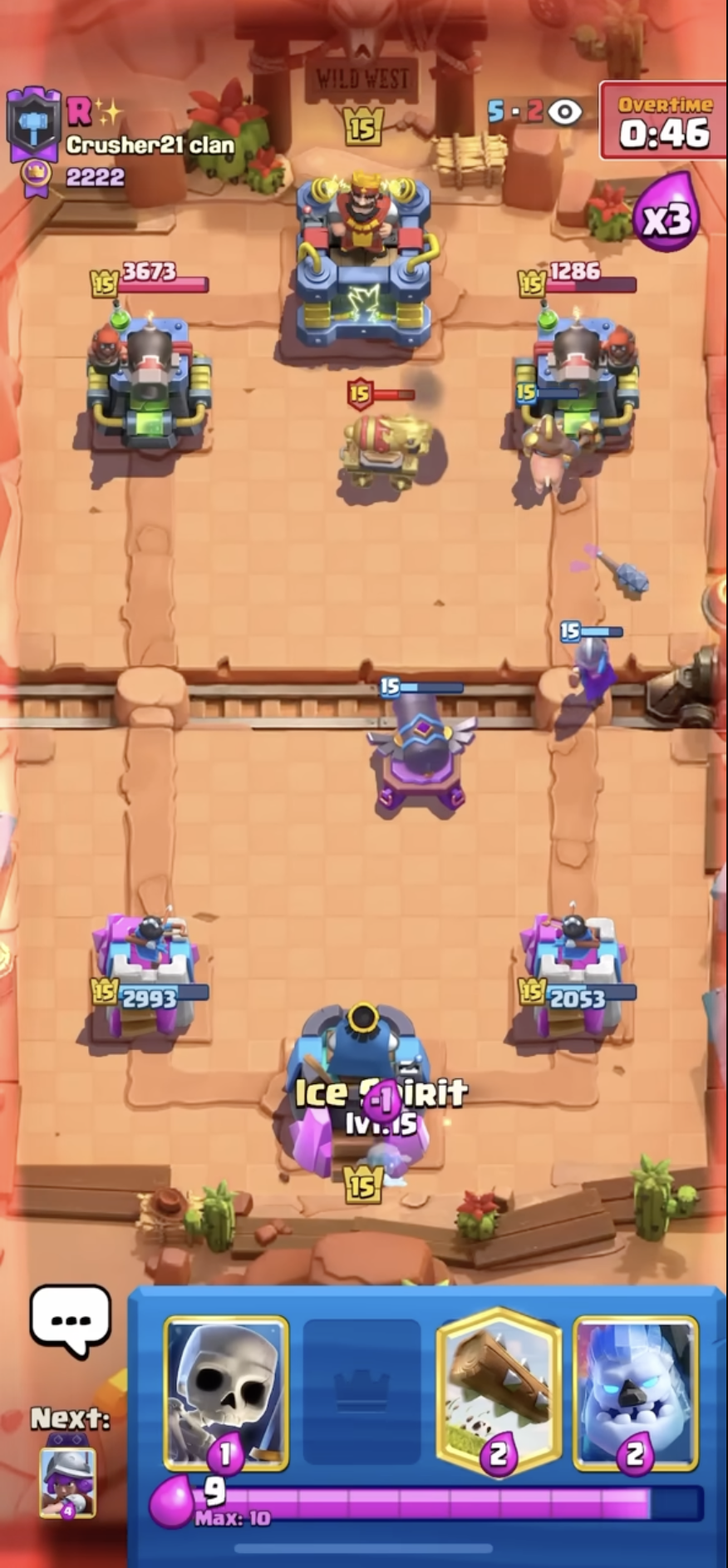evo_cannon: (366, 657, 481, 836)
evo_musketeer: (532, 612, 638, 722)
hog_rider: (512, 396, 609, 514)
